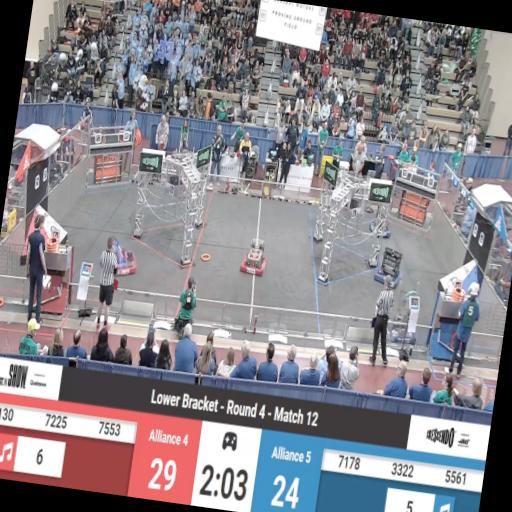robot: (104, 238, 140, 278), (373, 248, 405, 289), (240, 240, 270, 276), (368, 210, 392, 238)
